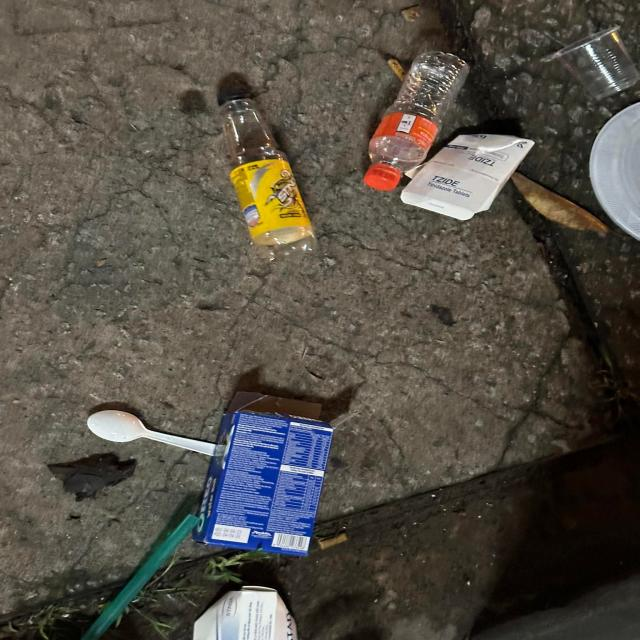bottle: (218, 89, 317, 262), (364, 51, 470, 191)
cardboard box: (191, 391, 358, 556)
drinking straw: (80, 513, 202, 640)
packet: (400, 134, 536, 221)
plastic glass: (556, 26, 640, 100)
plastic utensil: (588, 101, 640, 241), (87, 409, 217, 456)
